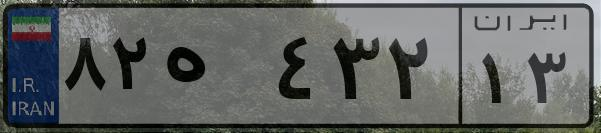1: (475, 38, 525, 113)
2: (385, 28, 445, 110), (110, 28, 158, 98)
3: (330, 28, 385, 110), (525, 38, 570, 115)
4: (270, 28, 330, 110)
8: (57, 26, 110, 100)
ه: (158, 20, 270, 120)
